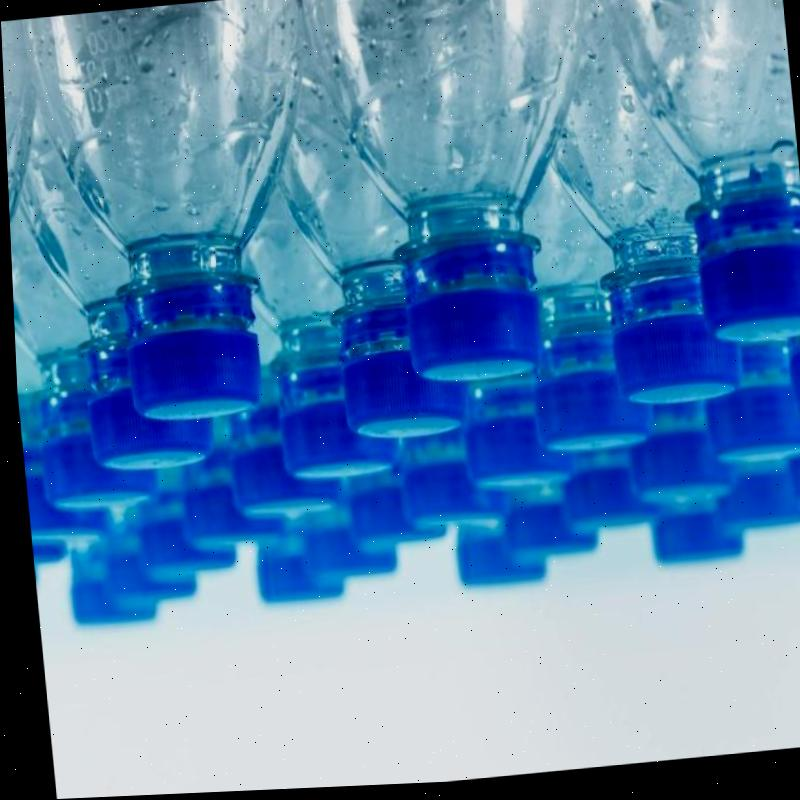botella: (24, 0, 336, 433), (299, 0, 619, 397), (529, 0, 735, 417), (6, 94, 213, 479), (591, 0, 800, 361), (266, 70, 461, 449), (235, 165, 396, 488), (507, 177, 650, 460), (26, 365, 157, 512), (117, 441, 243, 587), (385, 409, 507, 539), (81, 486, 198, 619), (612, 387, 729, 519), (218, 390, 336, 519), (454, 363, 570, 492), (170, 435, 280, 553), (697, 343, 800, 468), (490, 457, 594, 577), (548, 440, 659, 549), (333, 452, 439, 555), (435, 502, 543, 602), (701, 446, 800, 550), (16, 426, 102, 543), (55, 523, 151, 626), (1, 18, 44, 242), (632, 488, 739, 578), (286, 496, 391, 581), (234, 529, 336, 609), (781, 338, 800, 431), (781, 450, 800, 519), (26, 539, 64, 568)
